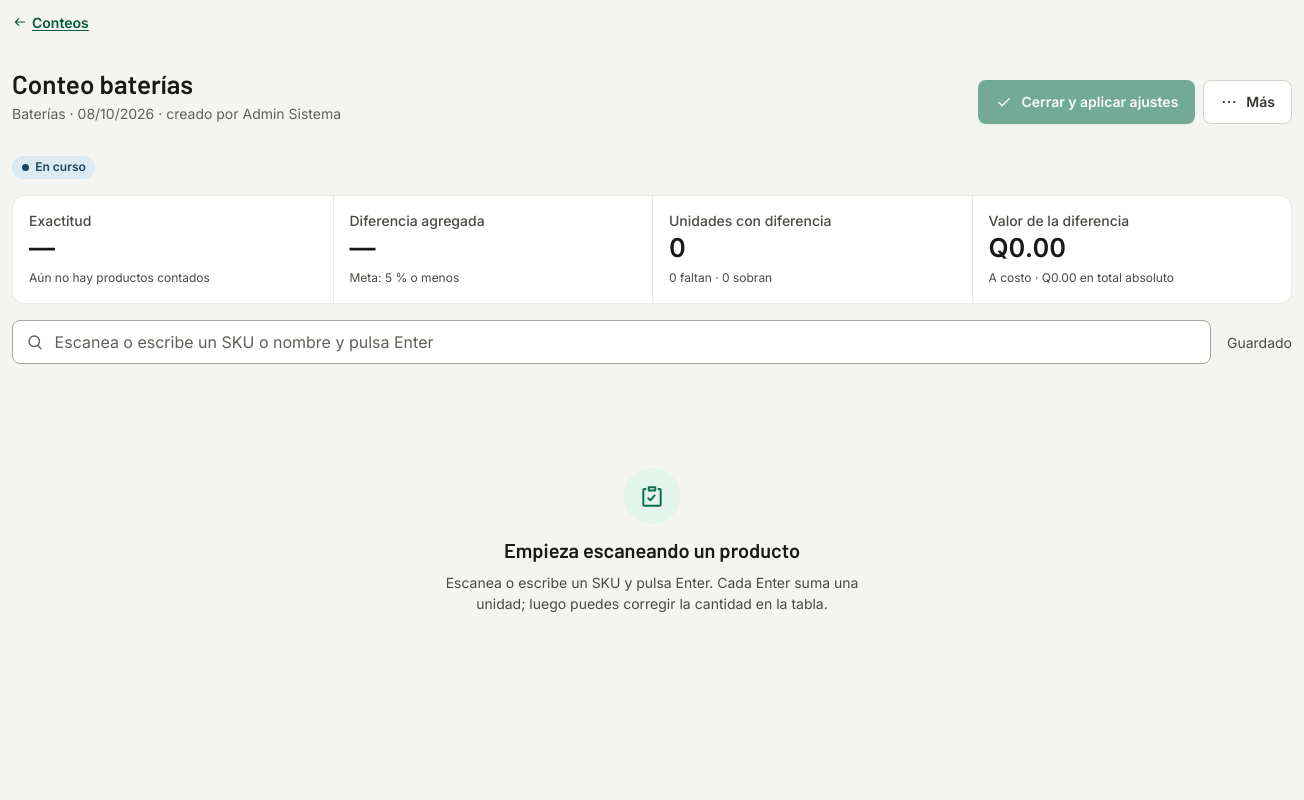
Test: ConteoDetallePage › al escanear un SKU (Enter) lo agrega con 1 y guarda solo (autoguardado)
The image size is (1304, 800).
Type "bat-9" into the dropdown named "buscar o escanear" at (612, 342), box [12, 320, 1211, 364]
Then press Enter
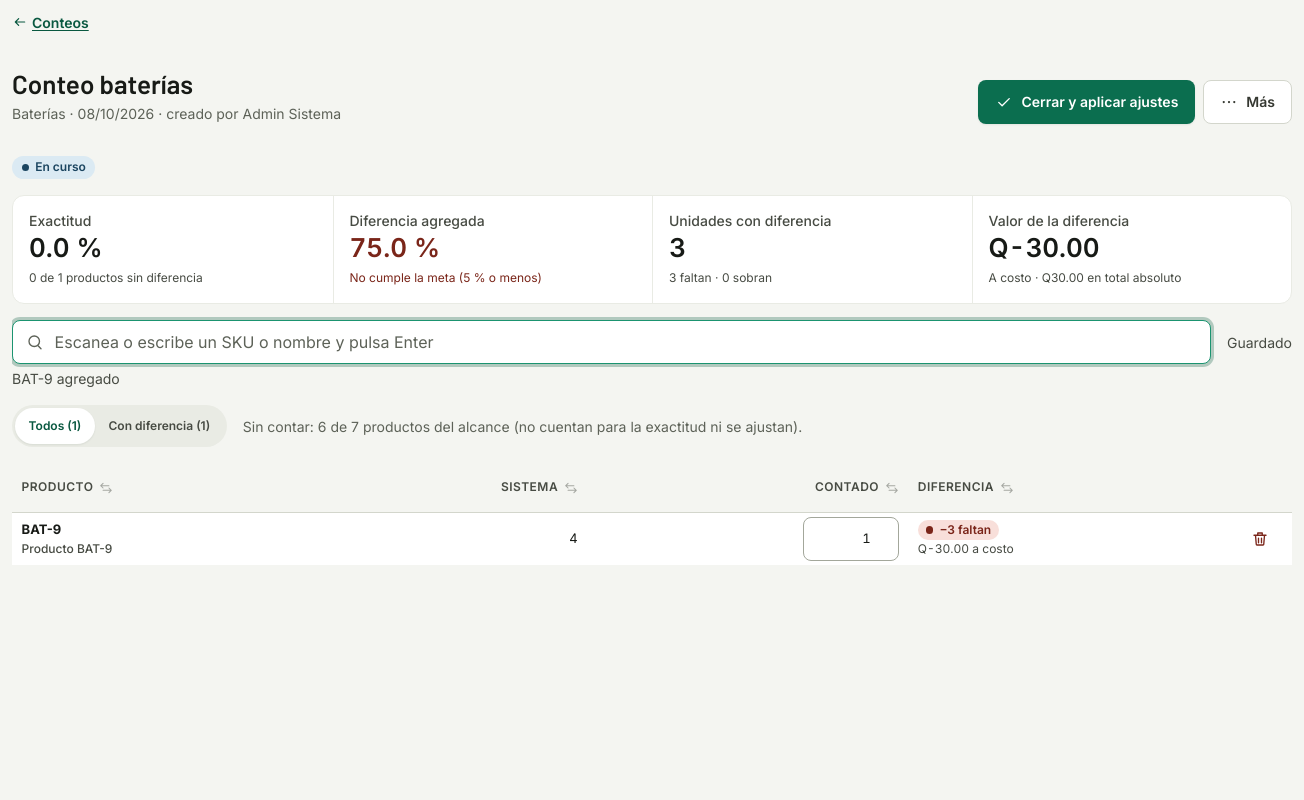
Expected: the text "Guardado" is shown, [1227, 332, 1292, 353]
Expected: the number field named "Cantidad contada de BAT-9" holds "1", [803, 517, 899, 561]
Expected: the text "−3 faltan" is shown, [918, 520, 999, 540]
